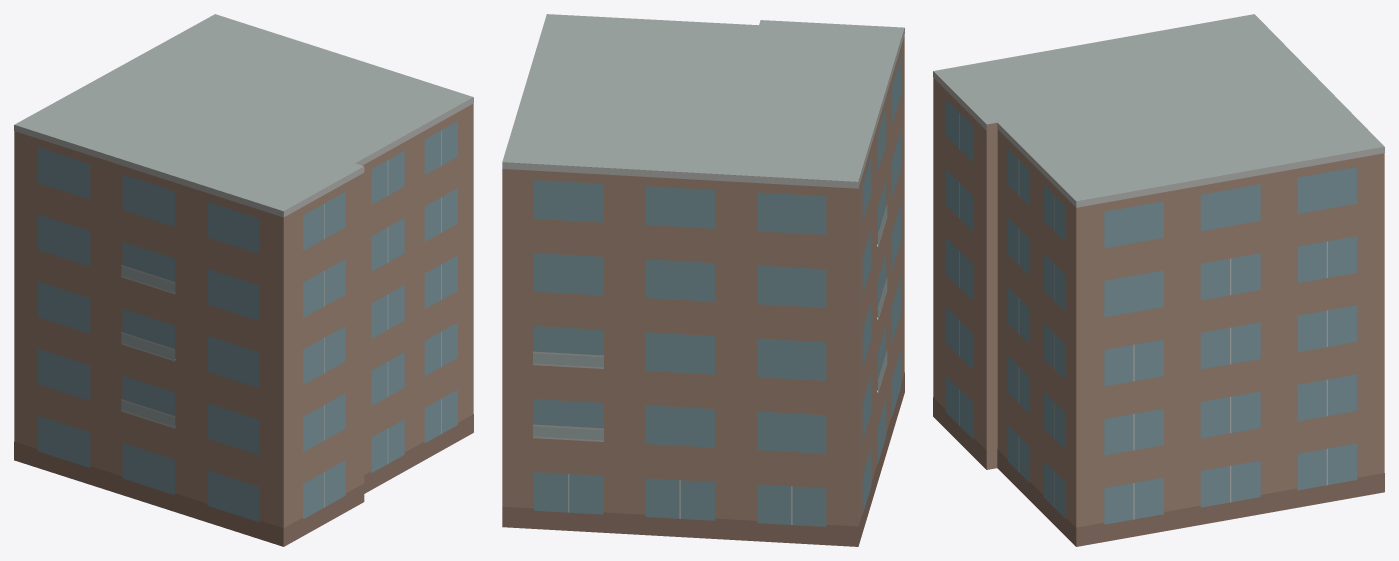
The model's file is survey-upis-32742262.glb.
The picture shows the model from 3 angles, left to right: view 1: azimuth 30°, elevation 25°; view 2: azimuth 150°, elevation 25°; view 3: azimuth 270°, elevation 25°; orthographic projection. The views are drawn at different scales.
Parts seen in each view (by area): view 1: survey-upis-32742262.tmp; view 2: survey-upis-32742262.tmp; view 3: survey-upis-32742262.tmp.
Part boxes in pixels (x1,y1,x2,y2): survey-upis-32742262.tmp: [14, 14, 473, 546]; survey-upis-32742262.tmp: [502, 14, 904, 546]; survey-upis-32742262.tmp: [933, 14, 1384, 546].
Bounding box in the file's own units: 15.36 × 13.2 × 15.65.
